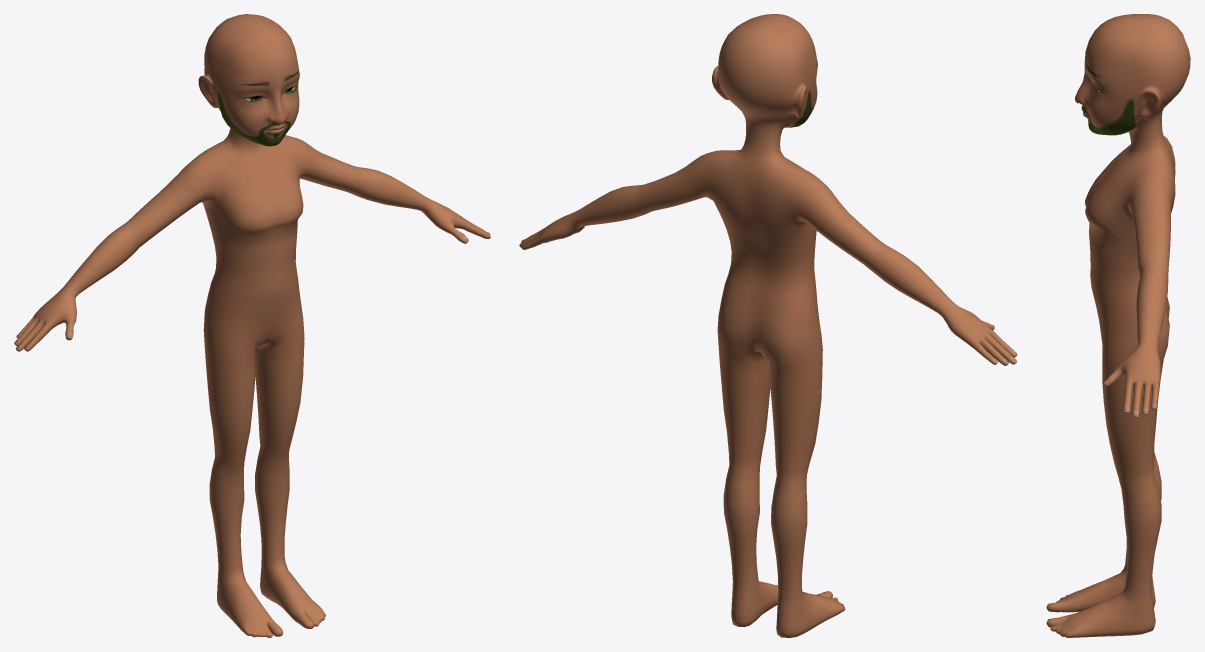
The model's file is frame_0065.glb.
3 views of the same model, side by side, from view 1: azimuth 30°, elevation 25°; view 2: azimuth 150°, elevation 25°; view 3: azimuth 270°, elevation 25° (orthographic). The views are drawn at different scales.
Visible parts, largest first — view 1: frame_0065_head_geo; view 2: frame_0065_head_geo; view 3: frame_0065_head_geo.
Boxes of the visible parts, x1=… form: frame_0065_head_geo: x1=14, y1=14, x2=490, y2=637; frame_0065_head_geo: x1=519, y1=14, x2=1017, y2=637; frame_0065_head_geo: x1=1046, y1=14, x2=1190, y2=637.
Size of the model in its own units: 1.28 by 1.5 by 0.3253.
Materials: 3 (3 with a texture image).
